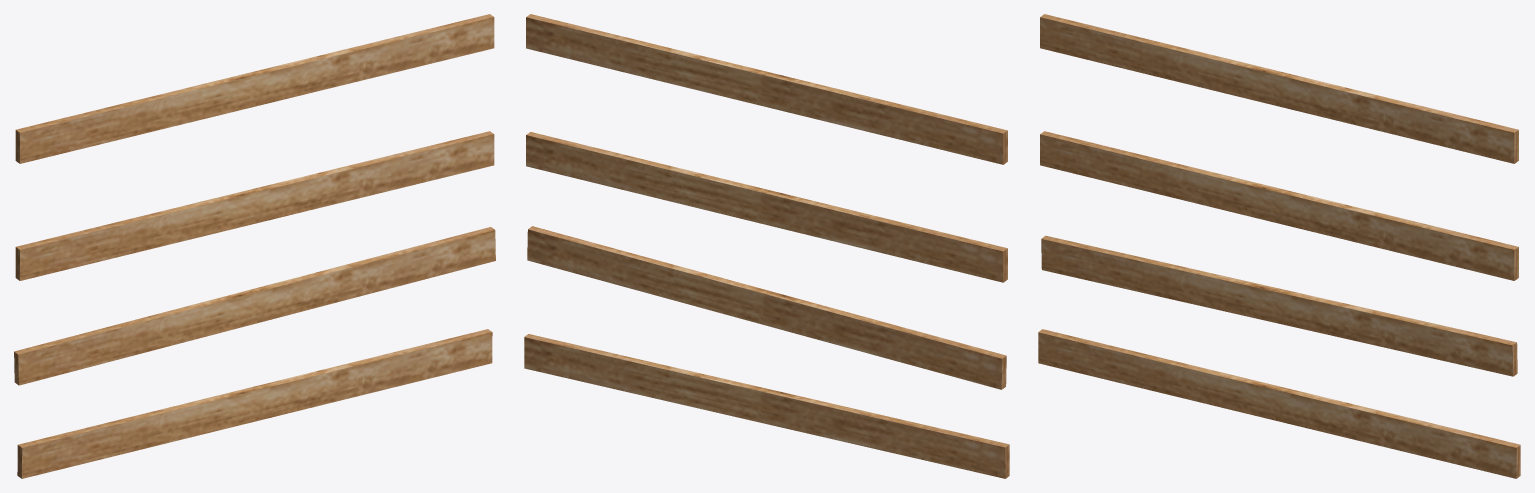
Rendered from des_fence_A.fbx.
3 renders of one model, left to right at view 1: azimuth 30°, elevation 25°; view 2: azimuth 150°, elevation 25°; view 3: azimuth 330°, elevation 25°, orthographic.
Visible parts, largest first — view 1: fence2; view 2: fence2; view 3: fence2.
Boxes of the visible parts, x1,y1,x2,y2 form: fence2: (14, 14, 495, 478); fence2: (524, 14, 1009, 478); fence2: (1038, 14, 1520, 478).
Size of the model in its own units: 141 by 98.83 by 4.38.
Materials: 1 (1 with a texture image).
